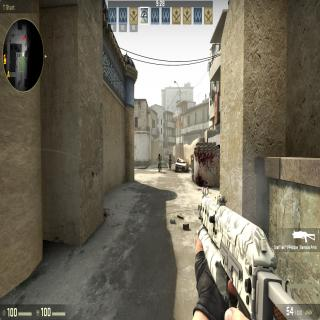CT-Body: (157, 152, 162, 172), (168, 153, 172, 170)
CT-Head: (158, 152, 160, 157), (169, 153, 171, 157)
